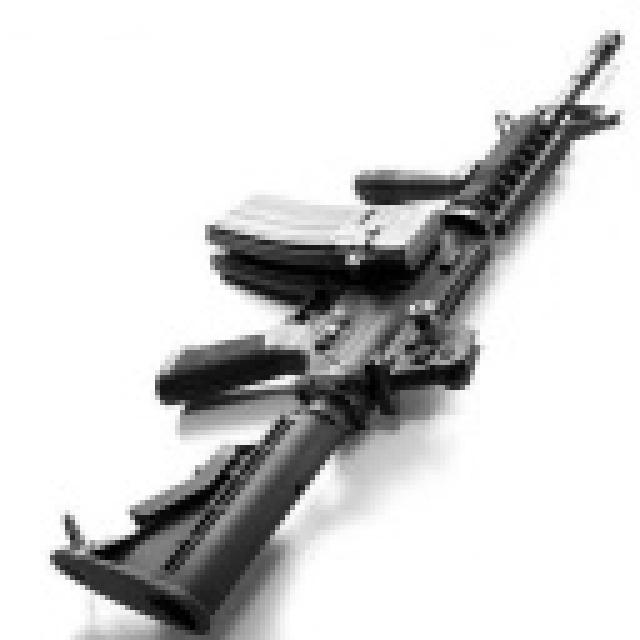Rifle: (11, 29, 640, 502)
